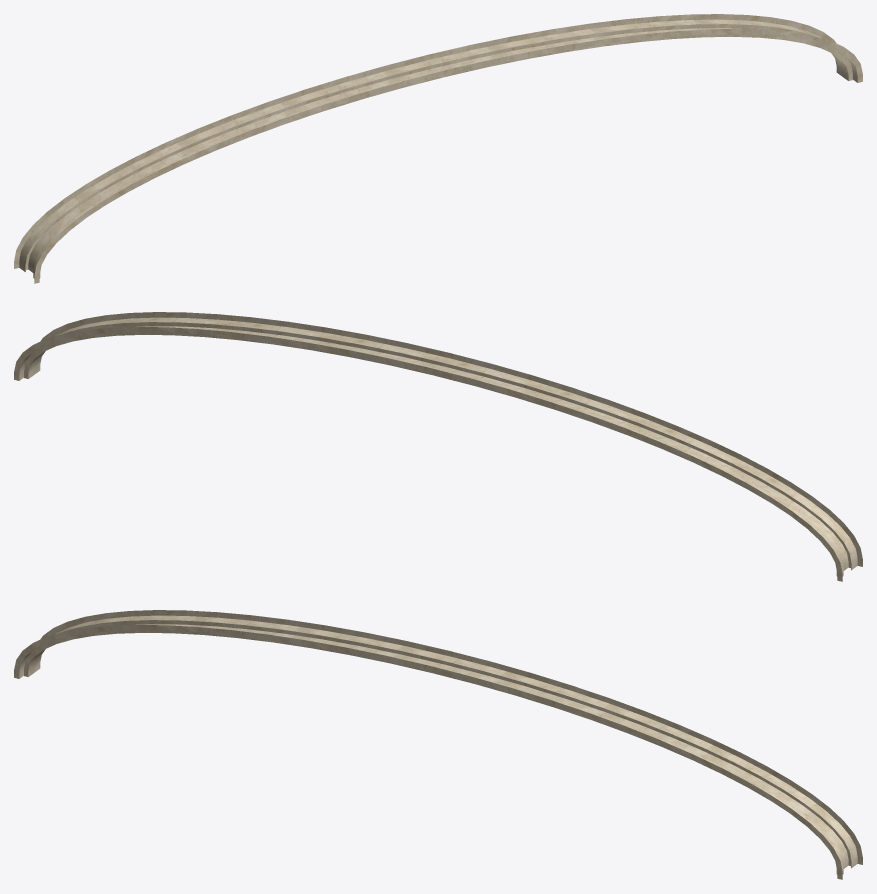
3 renders of one model, top to bottom at view 1: azimuth 30°, elevation 25°; view 2: azimuth 150°, elevation 25°; view 3: azimuth 330°, elevation 25°, orthographic.
Visible parts, largest first — view 1: M_C_201_a_24x1; view 2: M_C_201_a_24x1; view 3: M_C_201_a_24x1.
Part boxes in pixels (x1,y1,x2,y2): M_C_201_a_24x1: (14, 14, 862, 283); M_C_201_a_24x1: (14, 312, 862, 581); M_C_201_a_24x1: (14, 610, 862, 879).
Bounding box in the file's own units: 24.1 × 3.15 × 1.02.
